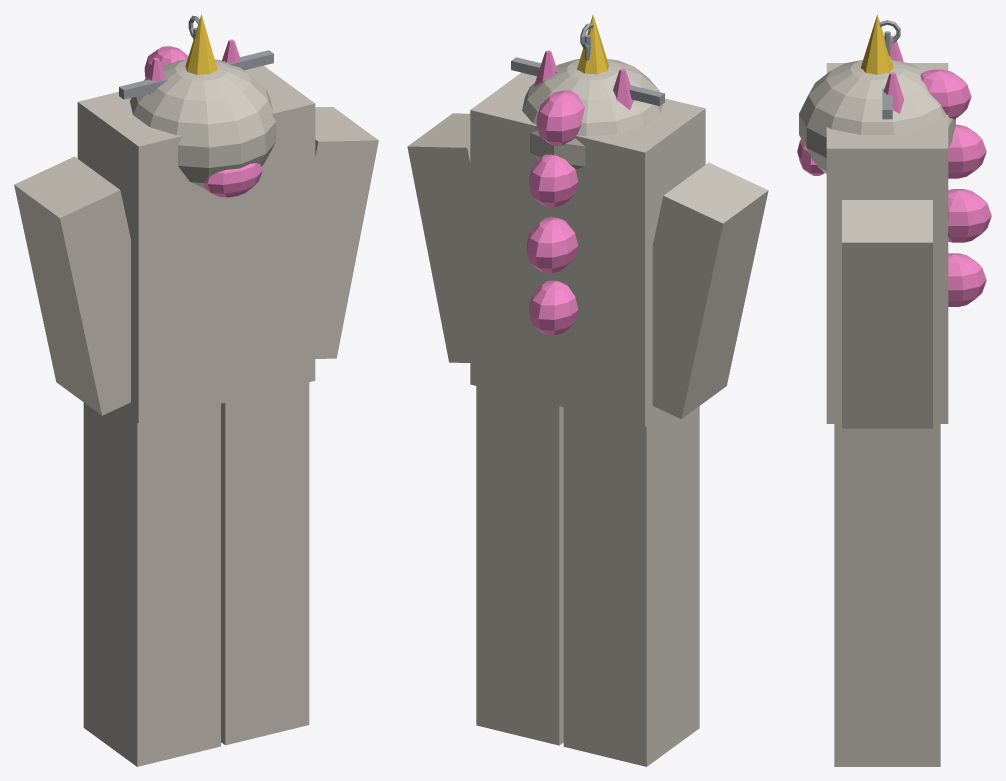
The model's file is hero_costume_unicorn.glb.
3 renders of one model, left to right at view 1: azimuth 30°, elevation 25°; view 2: azimuth 150°, elevation 25°; view 3: azimuth 270°, elevation 25°, orthographic.
Visible parts, largest first — view 1: hero_costume_unicorn; view 2: hero_costume_unicorn; view 3: hero_costume_unicorn.
Boxes of the visible parts, x1=… form: hero_costume_unicorn: x1=14, y1=14, x2=378, y2=766; hero_costume_unicorn: x1=407, y1=14, x2=768, y2=766; hero_costume_unicorn: x1=797, y1=14, x2=991, y2=766.
Bounding box in the file's own units: 0.7226 × 1.55 × 0.3845.
